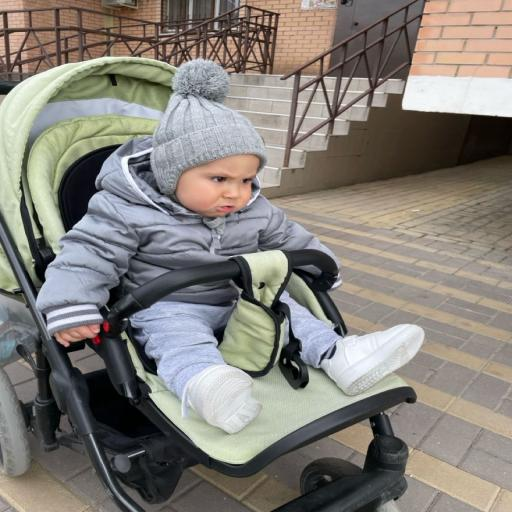bus_stop: (37, 60, 335, 345)
sofa: (226, 74, 404, 188)
steps_down: (0, 58, 415, 511)
